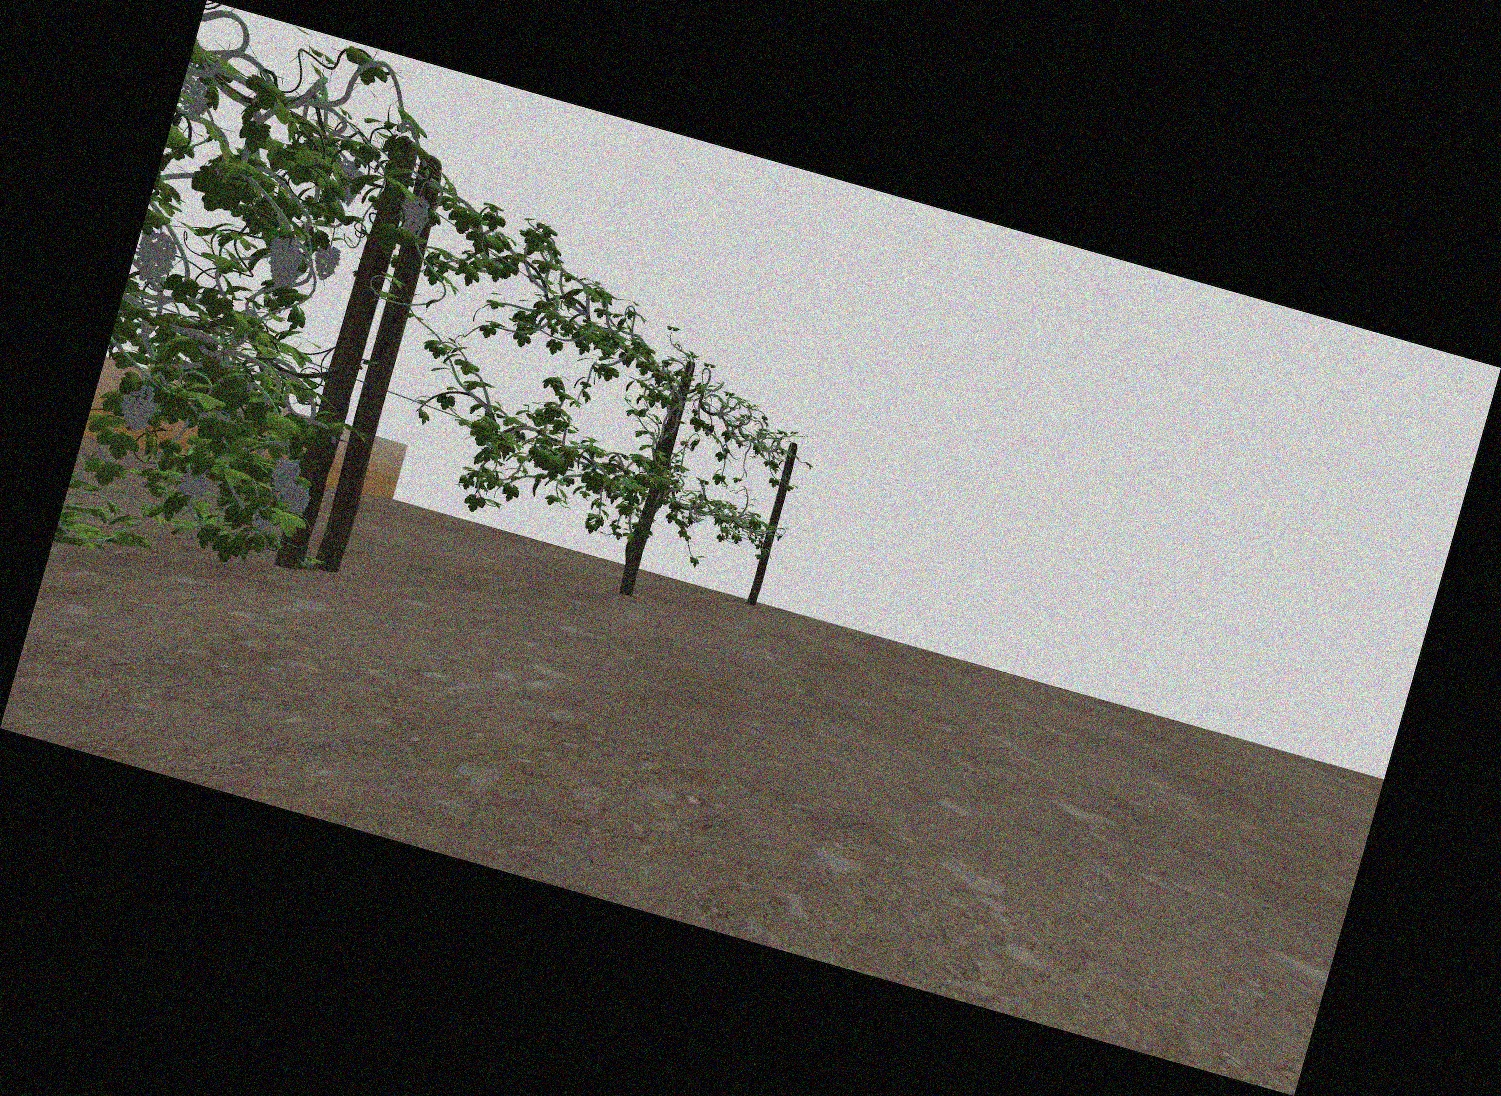grape: (139, 229, 175, 283), (266, 237, 300, 289), (121, 382, 157, 431), (402, 194, 429, 234), (272, 457, 300, 494), (313, 244, 339, 282), (179, 471, 209, 503), (183, 80, 209, 115), (290, 486, 311, 514)
